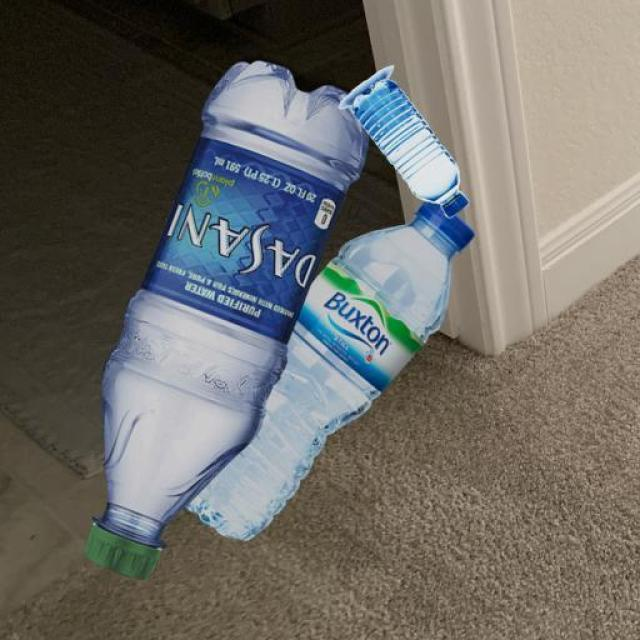bottle: (66, 53, 368, 603), (190, 200, 485, 568), (339, 57, 490, 225)
